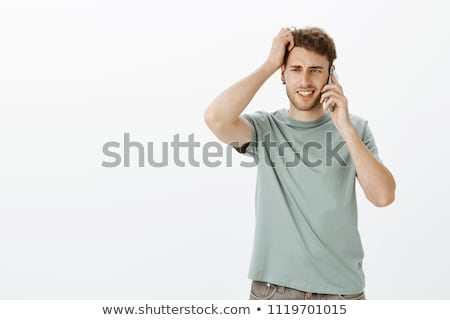phone: (321, 69, 345, 112)
talk: (288, 63, 352, 125)
